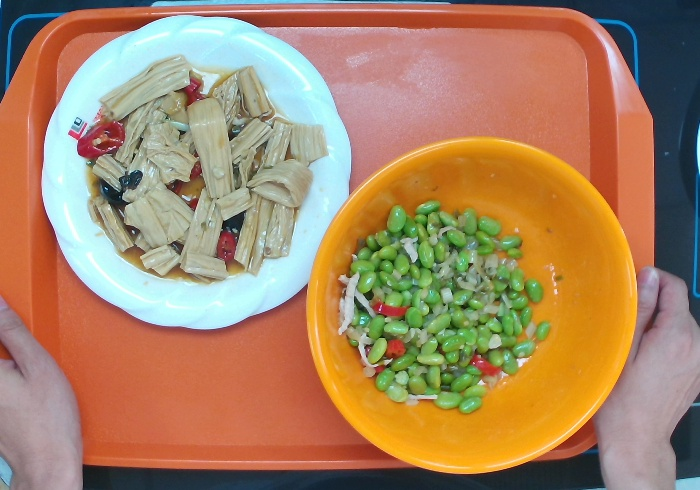ZNLD-Hua_Bian_Wan: (37, 14, 353, 331)
ZNLD-Ju_Se_Tang_Wan: (304, 130, 637, 473)
